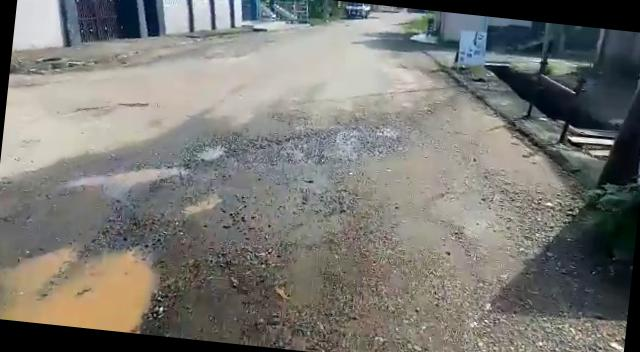pothole: (0, 236, 165, 334), (190, 139, 226, 166)
